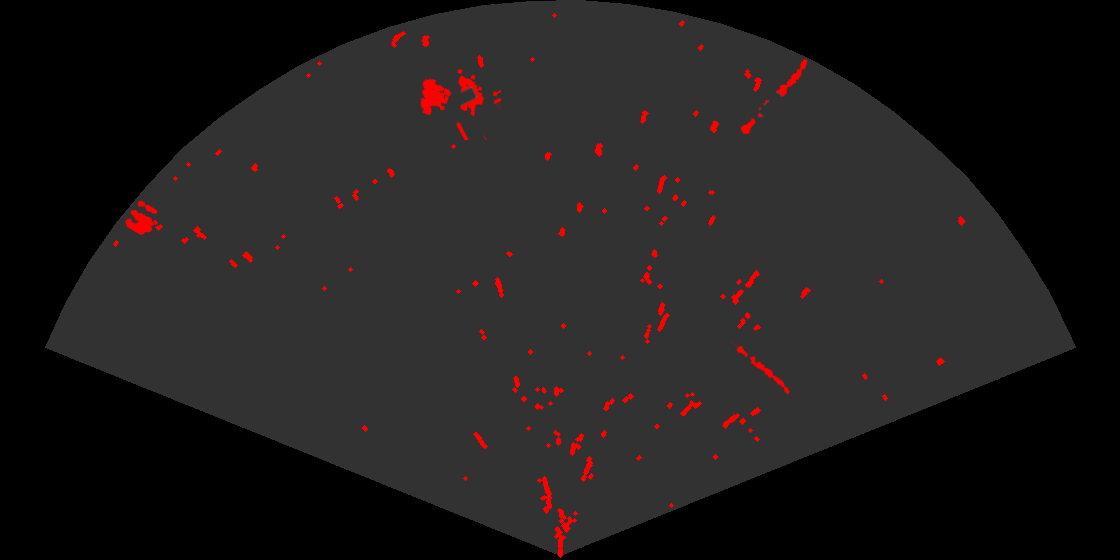ball: (124, 199, 159, 237)
cage: (419, 67, 501, 140)
chain: (739, 58, 809, 136), (731, 339, 791, 396)
